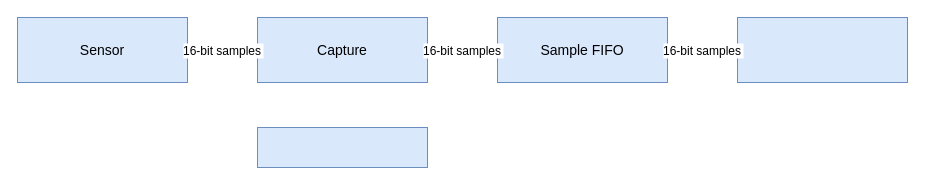
Image size: 925x185. Some labels were removed from this diagram. The centre of each missing label's shape, as x and y in pixels:
"Capture detail →" goes at (x=342, y=147).
"DMA" goes at (x=822, y=49).
